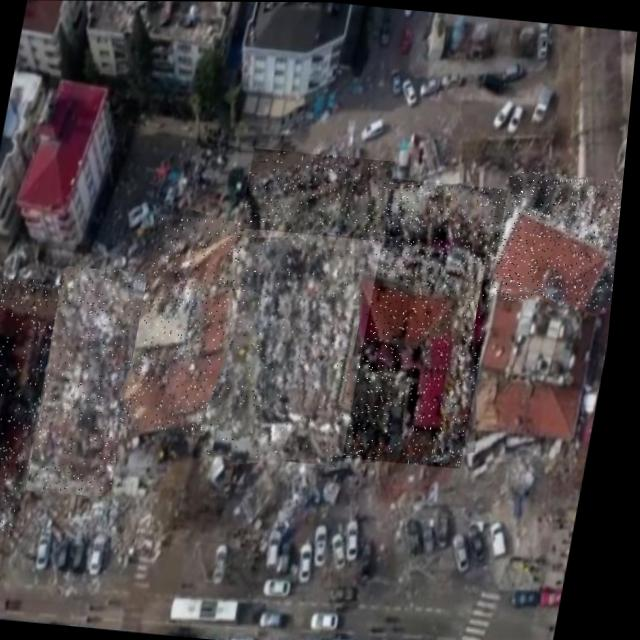Rubble: (127, 213, 384, 448), (330, 176, 515, 468), (211, 228, 387, 469), (33, 265, 155, 498), (493, 168, 627, 309), (0, 273, 67, 537), (242, 148, 398, 245)
